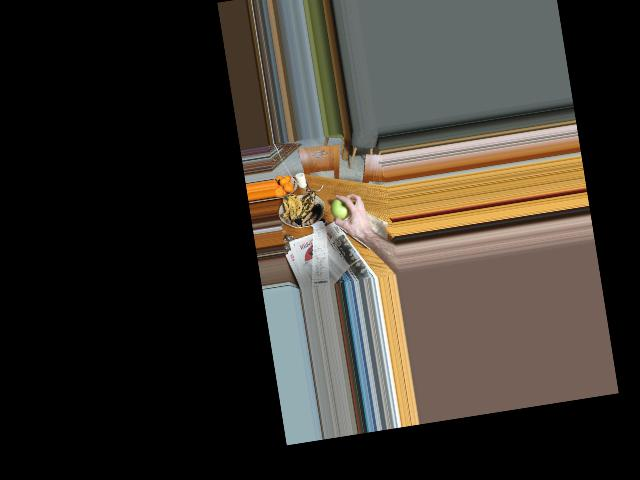apple: (329, 192, 356, 225)
